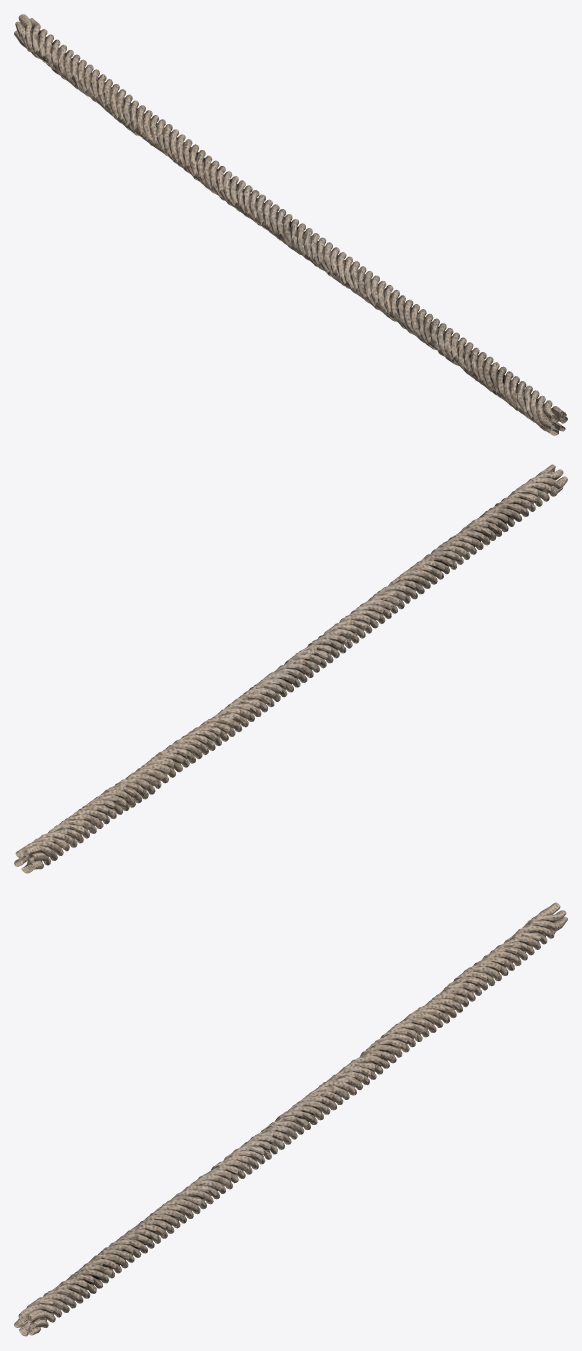
The model's file is TALI.fbx.
The picture shows the model from 3 angles, top to bottom: view 1: azimuth 30°, elevation 25°; view 2: azimuth 150°, elevation 25°; view 3: azimuth 330°, elevation 25°; orthographic projection. The views are drawn at different scales.
Parts seen in each view (by area): view 1: item.015, item.014, item.017, item.018, item.019, item.016; view 2: item.014, item.017, item.015, item.019, item.018, item.016; view 3: item.017, item.014, item.019, item.016, item.018, item.015.
Boxes of the visible parts, x1,y1,x2,y2 form: item.015: (15, 21, 555, 430); item.014: (18, 14, 557, 422); item.017: (30, 18, 566, 419); item.018: (14, 30, 558, 435); item.019: (44, 34, 565, 431); item.016: (32, 29, 567, 423); item.014: (21, 469, 563, 860); item.017: (15, 464, 555, 858); item.015: (28, 476, 567, 865); item.019: (21, 486, 552, 873); item.018: (28, 482, 563, 869); item.016: (14, 492, 542, 866); item.017: (26, 910, 566, 1322); item.014: (18, 902, 560, 1322); item.019: (28, 925, 556, 1335); item.016: (30, 916, 567, 1327); item.018: (19, 932, 547, 1336); item.015: (14, 907, 547, 1327).
Bounding box in the file's own units: 0.0037 × 0.00408 × 0.1013.
1 material, 1 textured.
